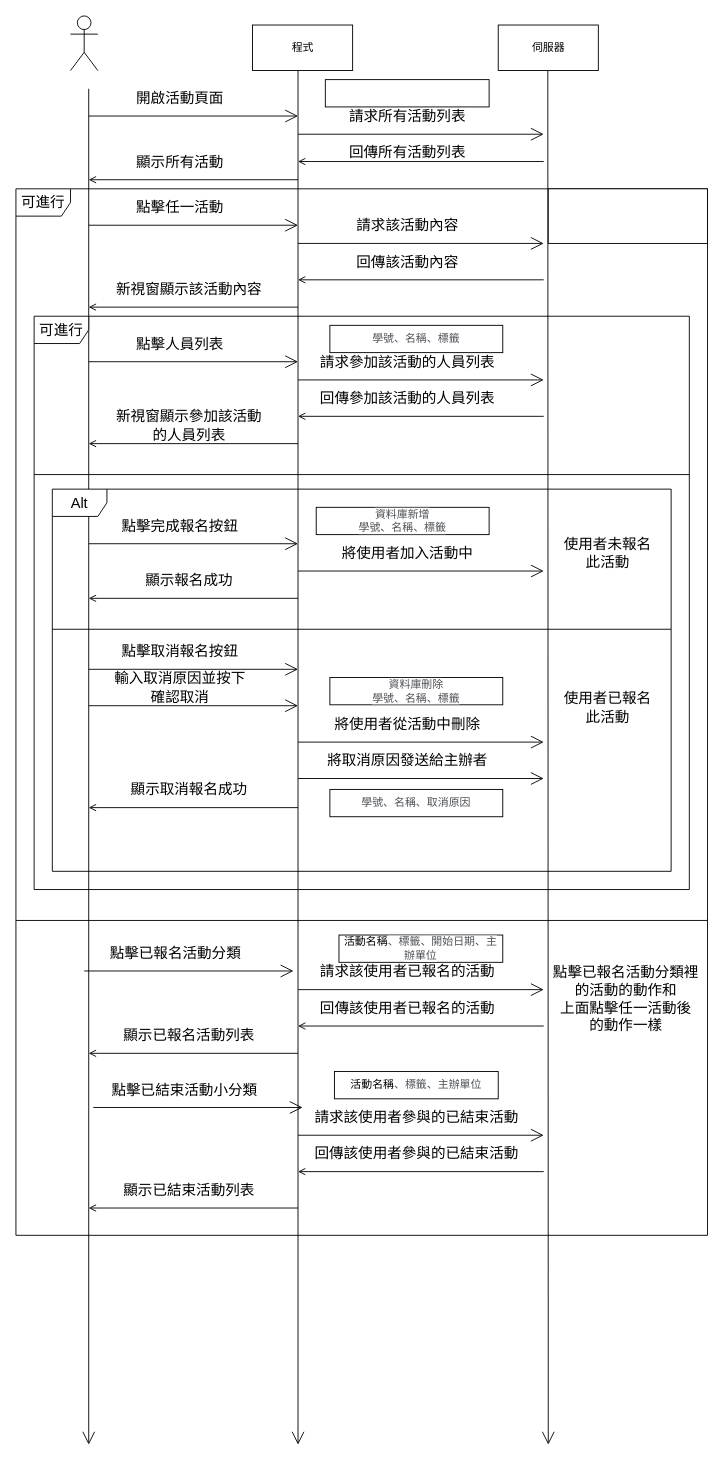
Image size: 723x1473. Some labels were removed from this diagram. The shapes that lost their labels are listed below. From the top down, each one's centre as x and y in pixels, then its label:
At pixel 84 43: "用戶".
At pixel 406 93: "活動名稱 、標籤 、開始日期 、人數 、主辦單位".
At pixel 627 215: "活動圖片 、 活動名稱 、標籤 、開始日期 、人數 、主辦單位 、開始地點".
